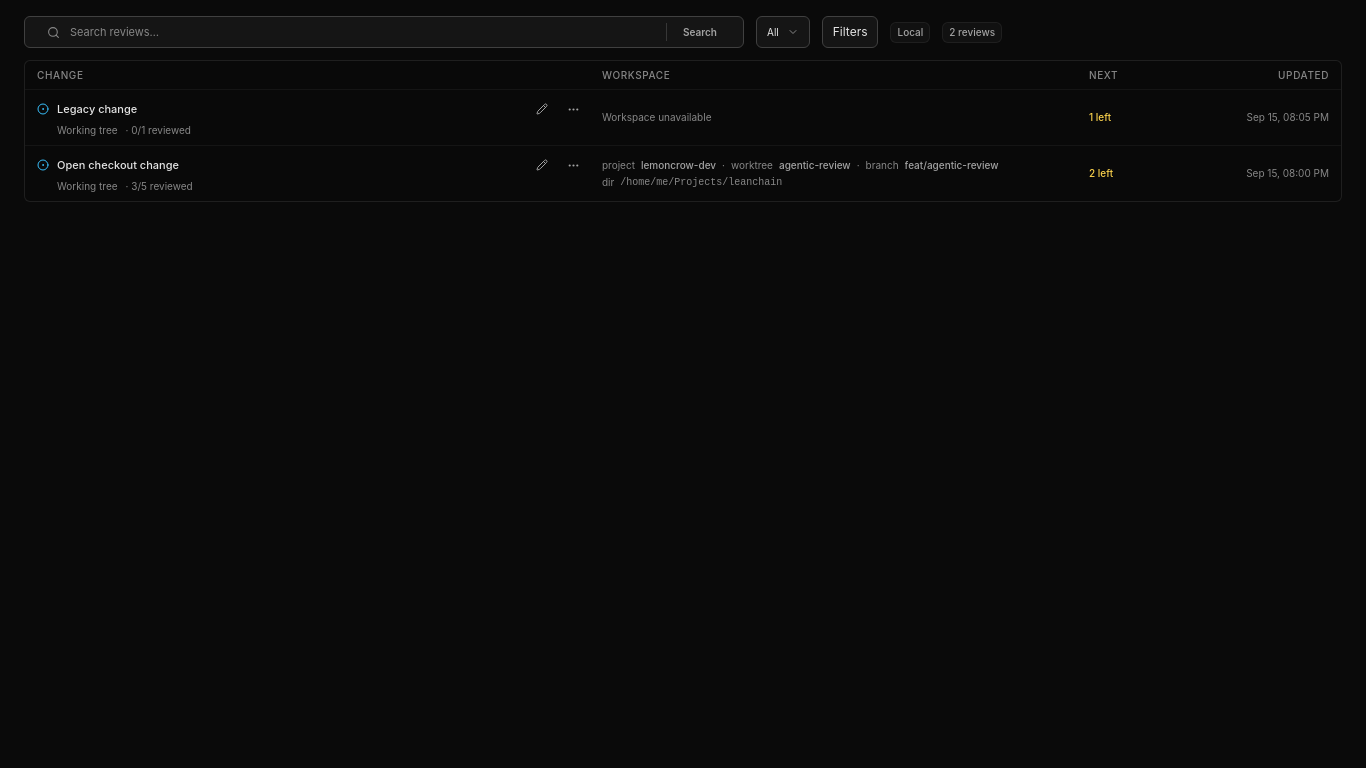
Test: ReviewDirectory › keeps the review when the discard confirmation is dismissed
The width and height of the screenshot is (1366, 768).
Click the button named "More actions for Open checkout change": [574, 165] box [562,153,586,177]
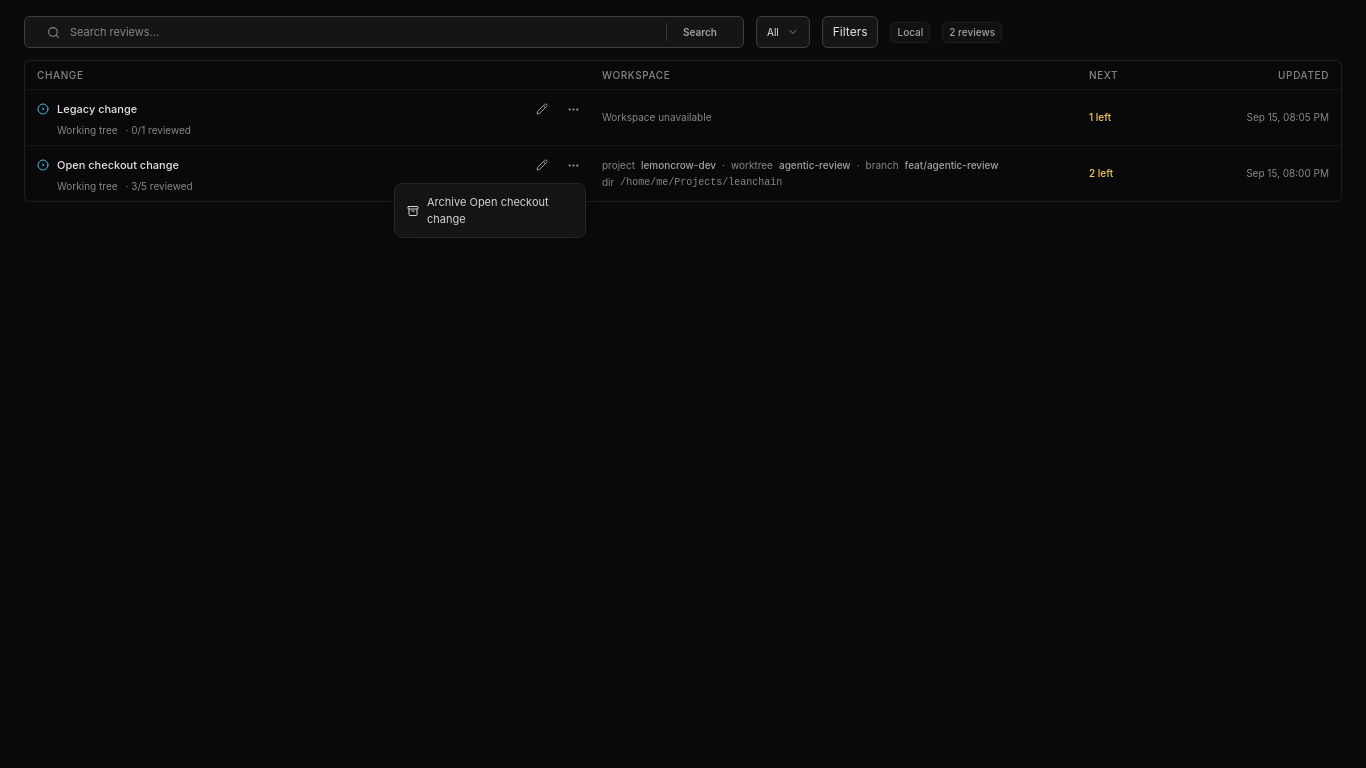
Click the menu item "Archive Open checkout change": [478, 210] box [407,195,549,226]
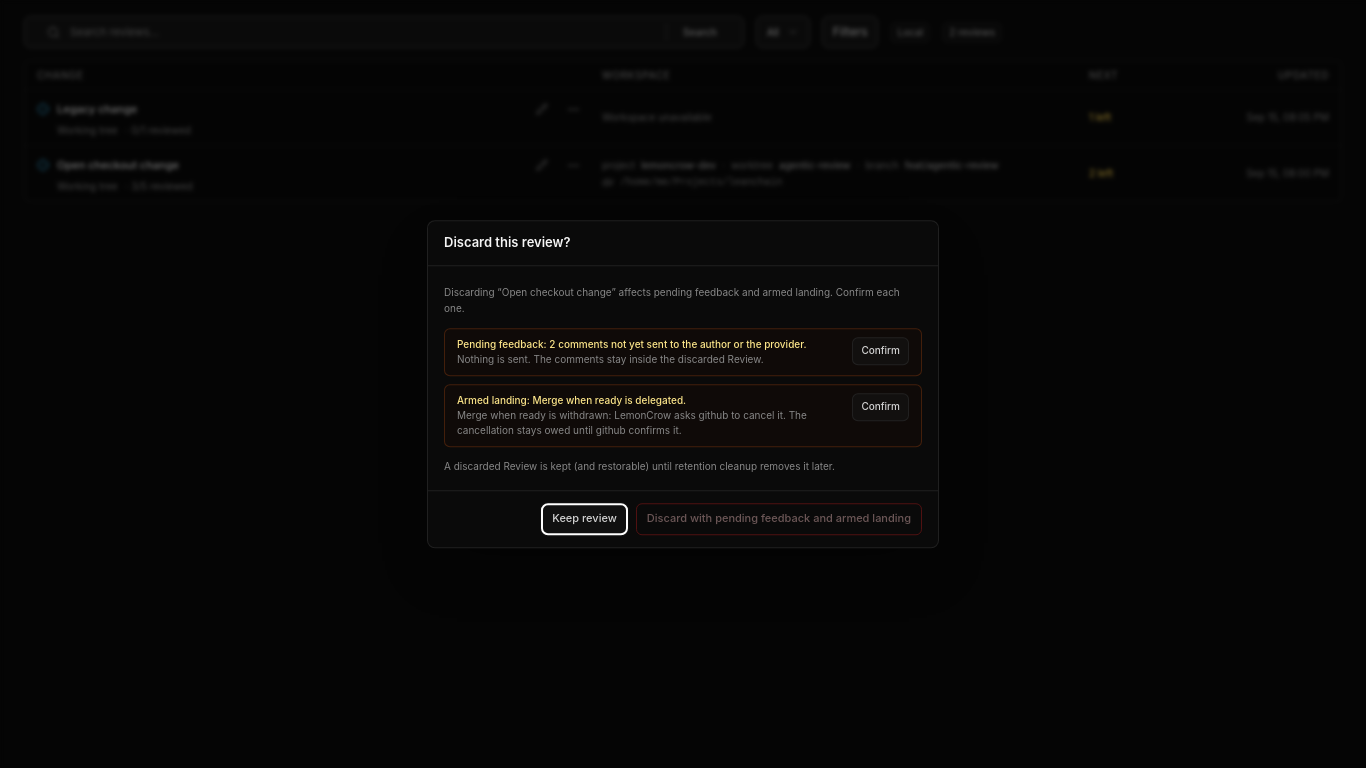
Click the button "Keep review": [585, 519] box [541,503,628,535]
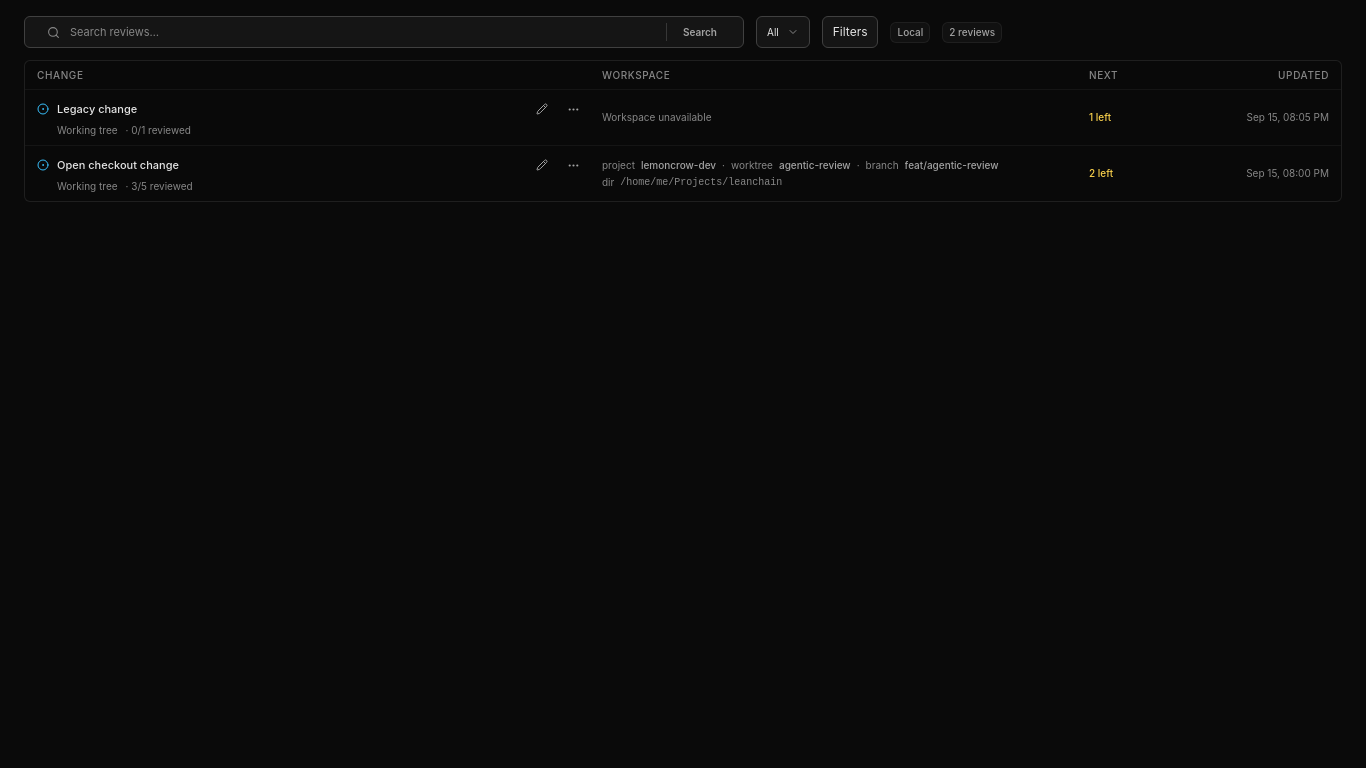
Check: the link named "Open Open checkout change" is shown, box [25,146,1341,201]
Check: the dialog is gone
